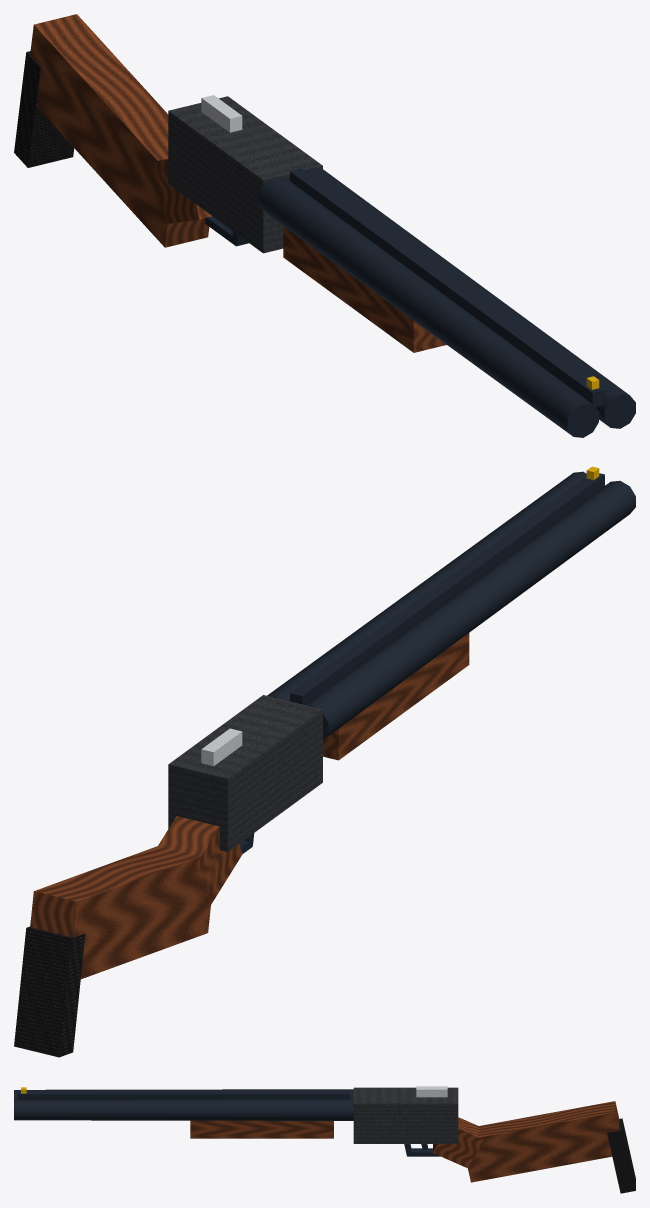
3 views of the same model, one above another, from view 1: azimuth 30°, elevation 25°; view 2: azimuth 150°, elevation 25°; view 3: azimuth 270°, elevation 25° (orthographic). The views are drawn at different scales.
Visible parts, largest first — view 1: weapon_m1887, BreakActionPivot; view 2: weapon_m1887, BreakActionPivot; view 3: weapon_m1887, BreakActionPivot.
Part boxes in pixels (bbox=[...]): weapon_m1887: bbox=[14, 14, 322, 253]; BreakActionPivot: bbox=[258, 167, 635, 437]; weapon_m1887: bbox=[14, 695, 322, 1057]; BreakActionPivot: bbox=[267, 466, 635, 760]; weapon_m1887: bbox=[353, 1086, 635, 1193]; BreakActionPivot: bbox=[14, 1087, 353, 1138].
Bounding box in the file's own units: 0.0683 × 0.1683 × 0.9521.
7 materials, 4 textured.
